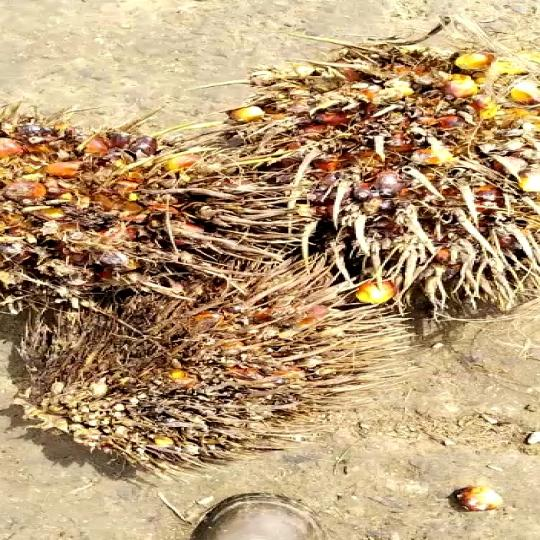terlalu masak: (192, 10, 540, 316), (10, 260, 366, 472)
